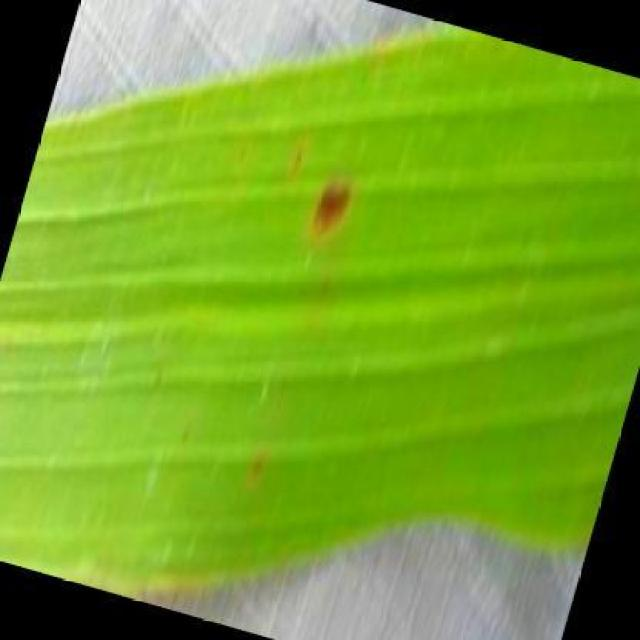Leaf_Blast: (298, 170, 358, 241), (252, 368, 293, 420), (278, 137, 312, 186), (308, 268, 343, 314), (238, 450, 274, 492), (88, 332, 121, 377), (141, 362, 174, 404), (338, 358, 370, 400), (226, 136, 259, 176), (172, 416, 200, 456), (144, 324, 173, 359), (386, 148, 417, 180), (67, 348, 91, 383)
